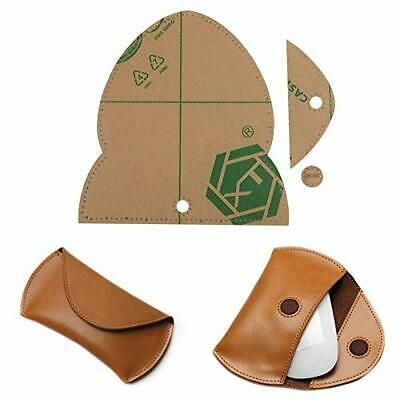cuero: (18, 247, 384, 390)
